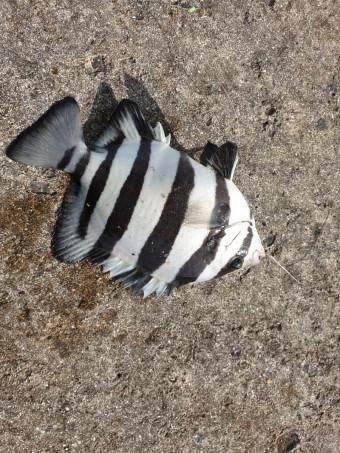fish: (5, 97, 266, 299)
